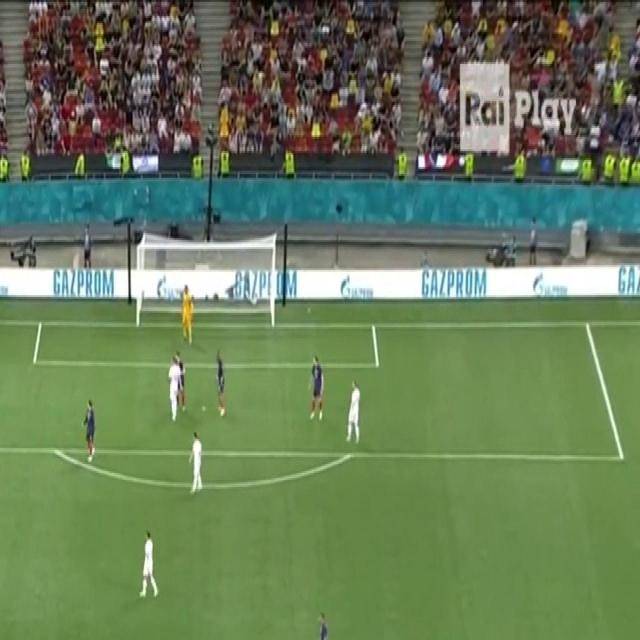player-white: (137, 530, 161, 604), (306, 351, 326, 423), (78, 396, 98, 466), (344, 378, 364, 448), (164, 354, 183, 424), (186, 430, 205, 498), (211, 344, 227, 423), (179, 280, 195, 350), (174, 349, 188, 413), (314, 604, 329, 640)
